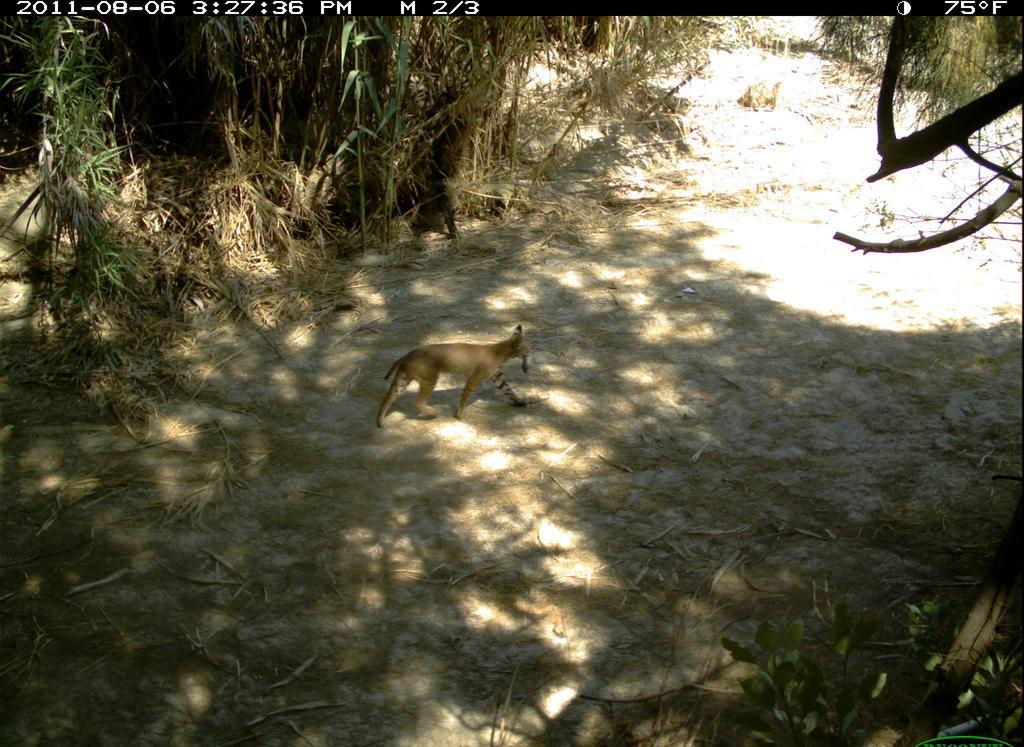bobcat: (374, 321, 537, 434)
rodent: (518, 346, 537, 380)
